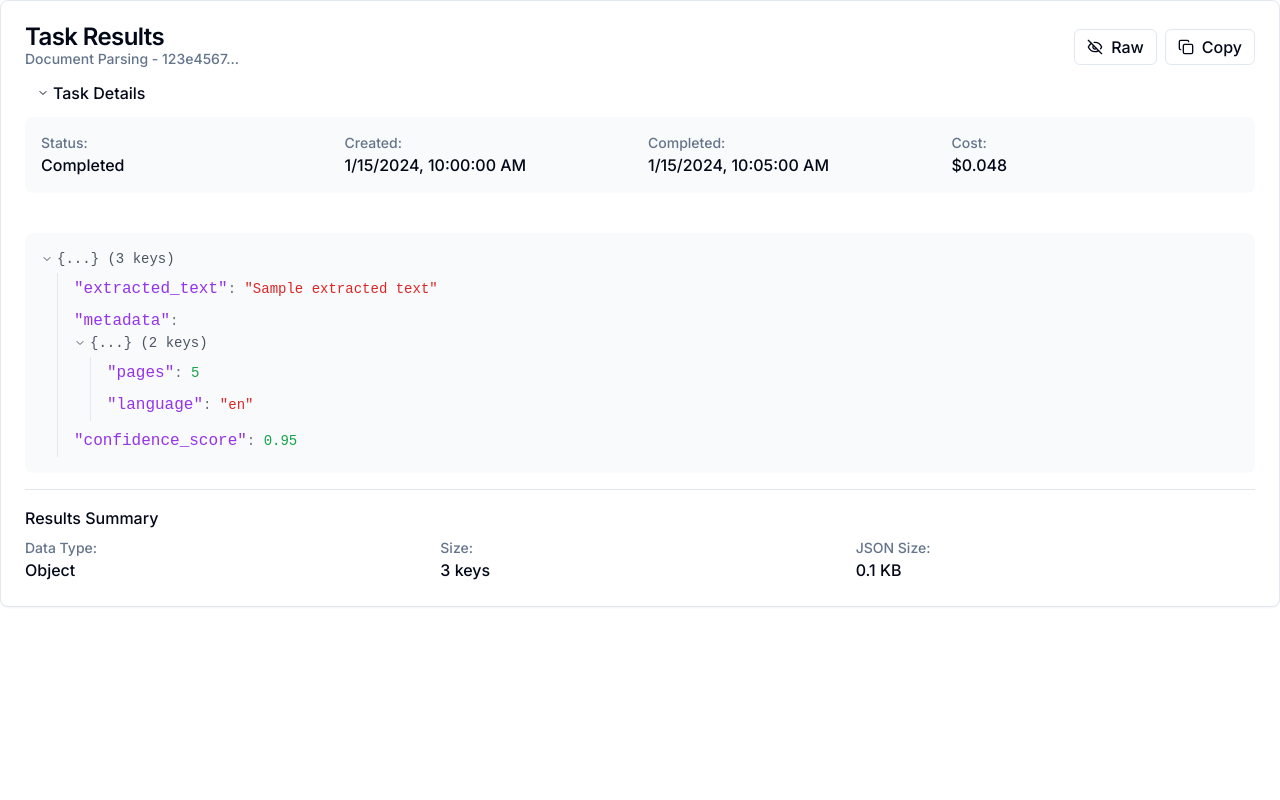
Test case: ResultsViewer › toggles between formatted and raw view
The width and height of the screenshot is (1280, 800).
# Click to switch to raw view
Click the button "Raw": x=1116, y=47 [1074,29,1157,65]
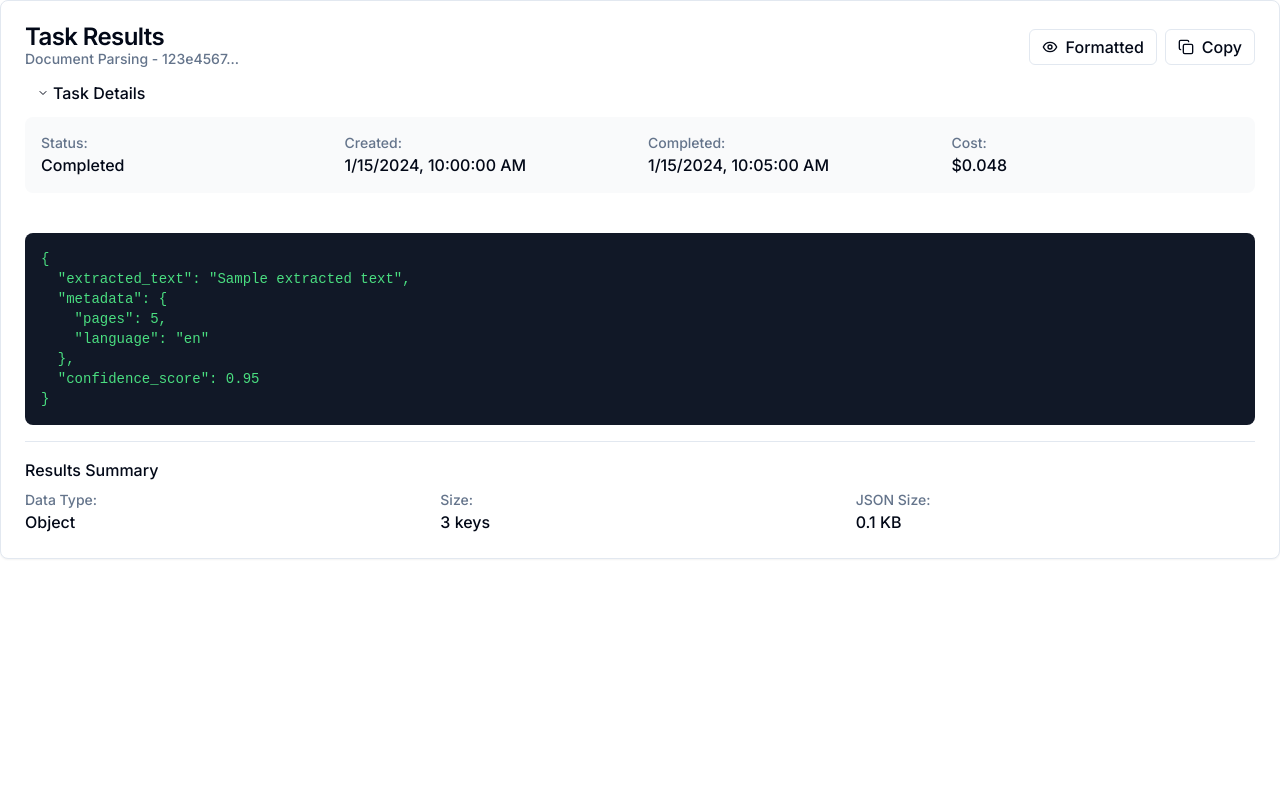
Now the button "Formatted" is shown, box [1029,29,1157,65]
